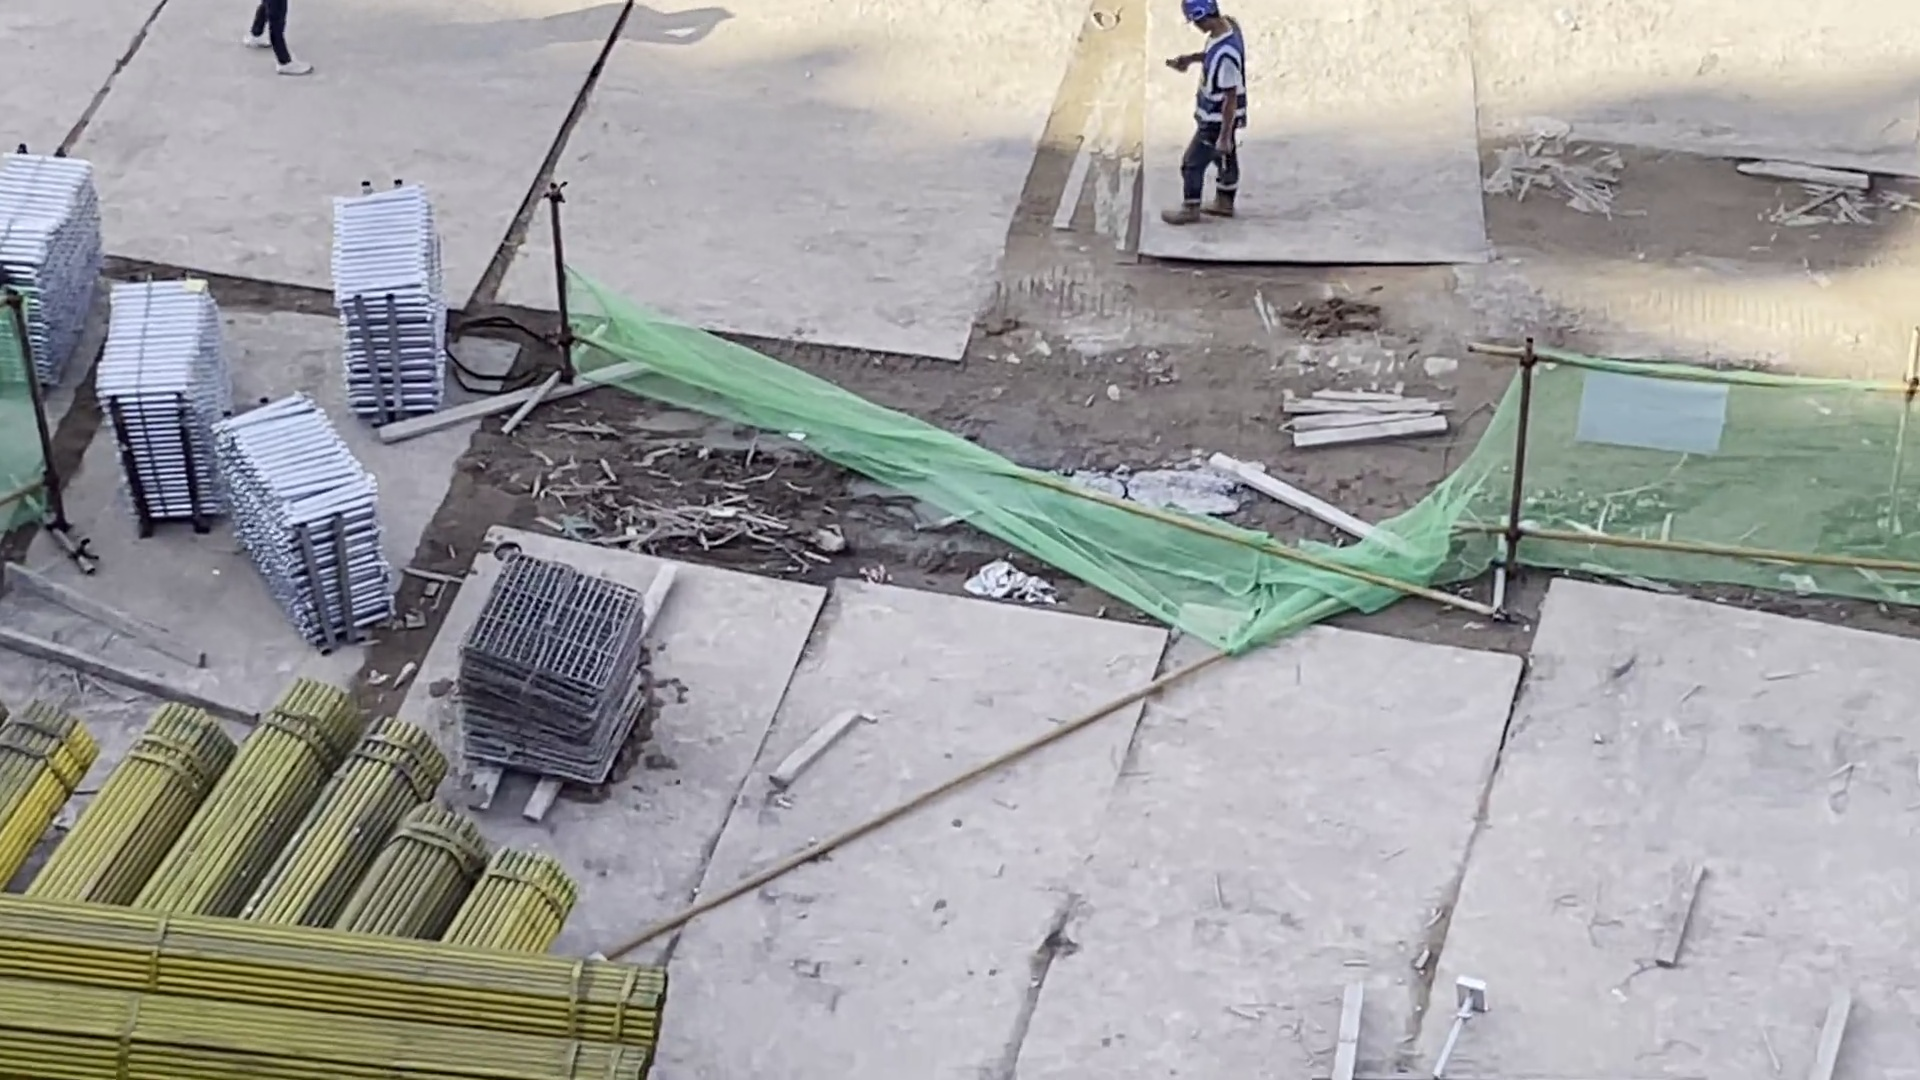helmet: (1180, 1, 1234, 31)
person: (1130, 1, 1263, 232), (245, 1, 349, 95)
scaffold: (223, 388, 367, 630), (324, 187, 480, 398), (1, 147, 114, 391), (116, 269, 209, 541)
vest: (1193, 32, 1248, 130)
